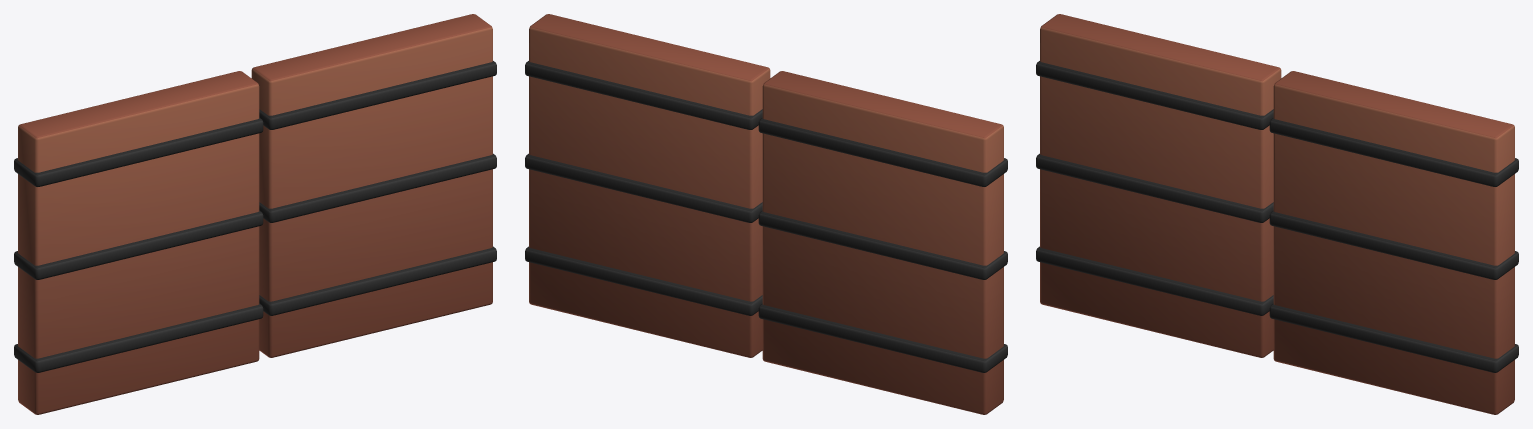
File: castle_door.glb
3 views of the same model, side by side, from view 1: azimuth 30°, elevation 25°; view 2: azimuth 150°, elevation 25°; view 3: azimuth 330°, elevation 25° (orthographic).
Parts seen in each view (by area): view 1: castle_door; view 2: castle_door; view 3: castle_door.
Boxes of the visible parts, box(x1,y1,x2,y2) form: castle_door: box(14, 14, 496, 414); castle_door: box(525, 14, 1007, 414); castle_door: box(1036, 14, 1518, 414).
Bounding box in the file's own units: 4.94 × 2.85 × 0.44.
Materials: 1 (1 with a texture image).
